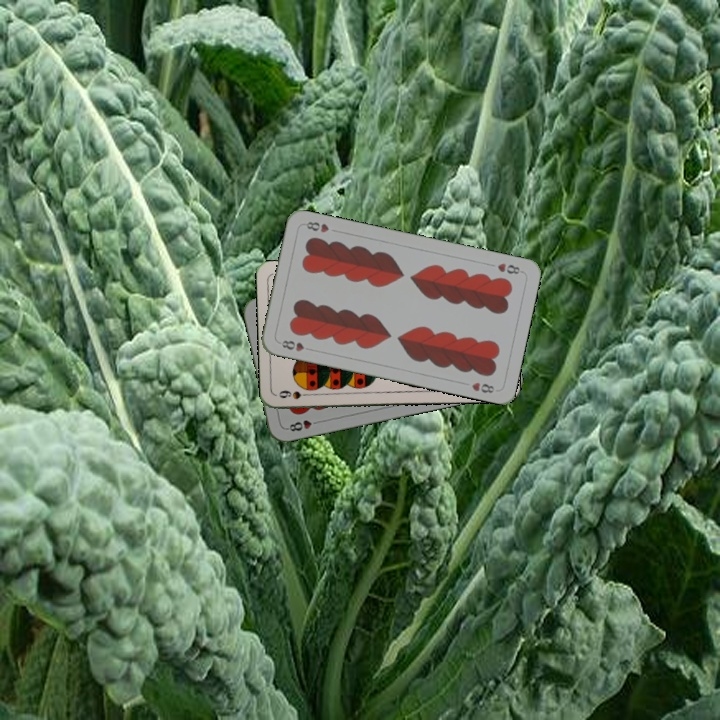H8: (283, 416, 323, 434), (277, 336, 315, 354), (493, 259, 525, 277)
S9: (275, 386, 315, 401)
